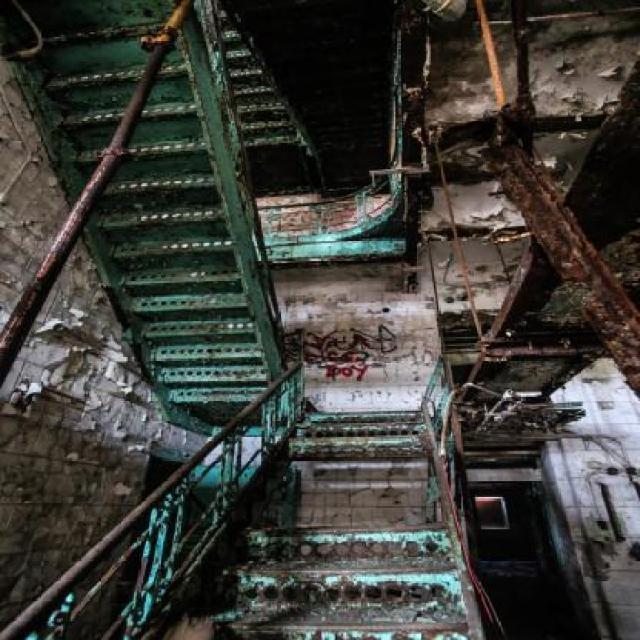stair: (0, 0, 300, 417)
